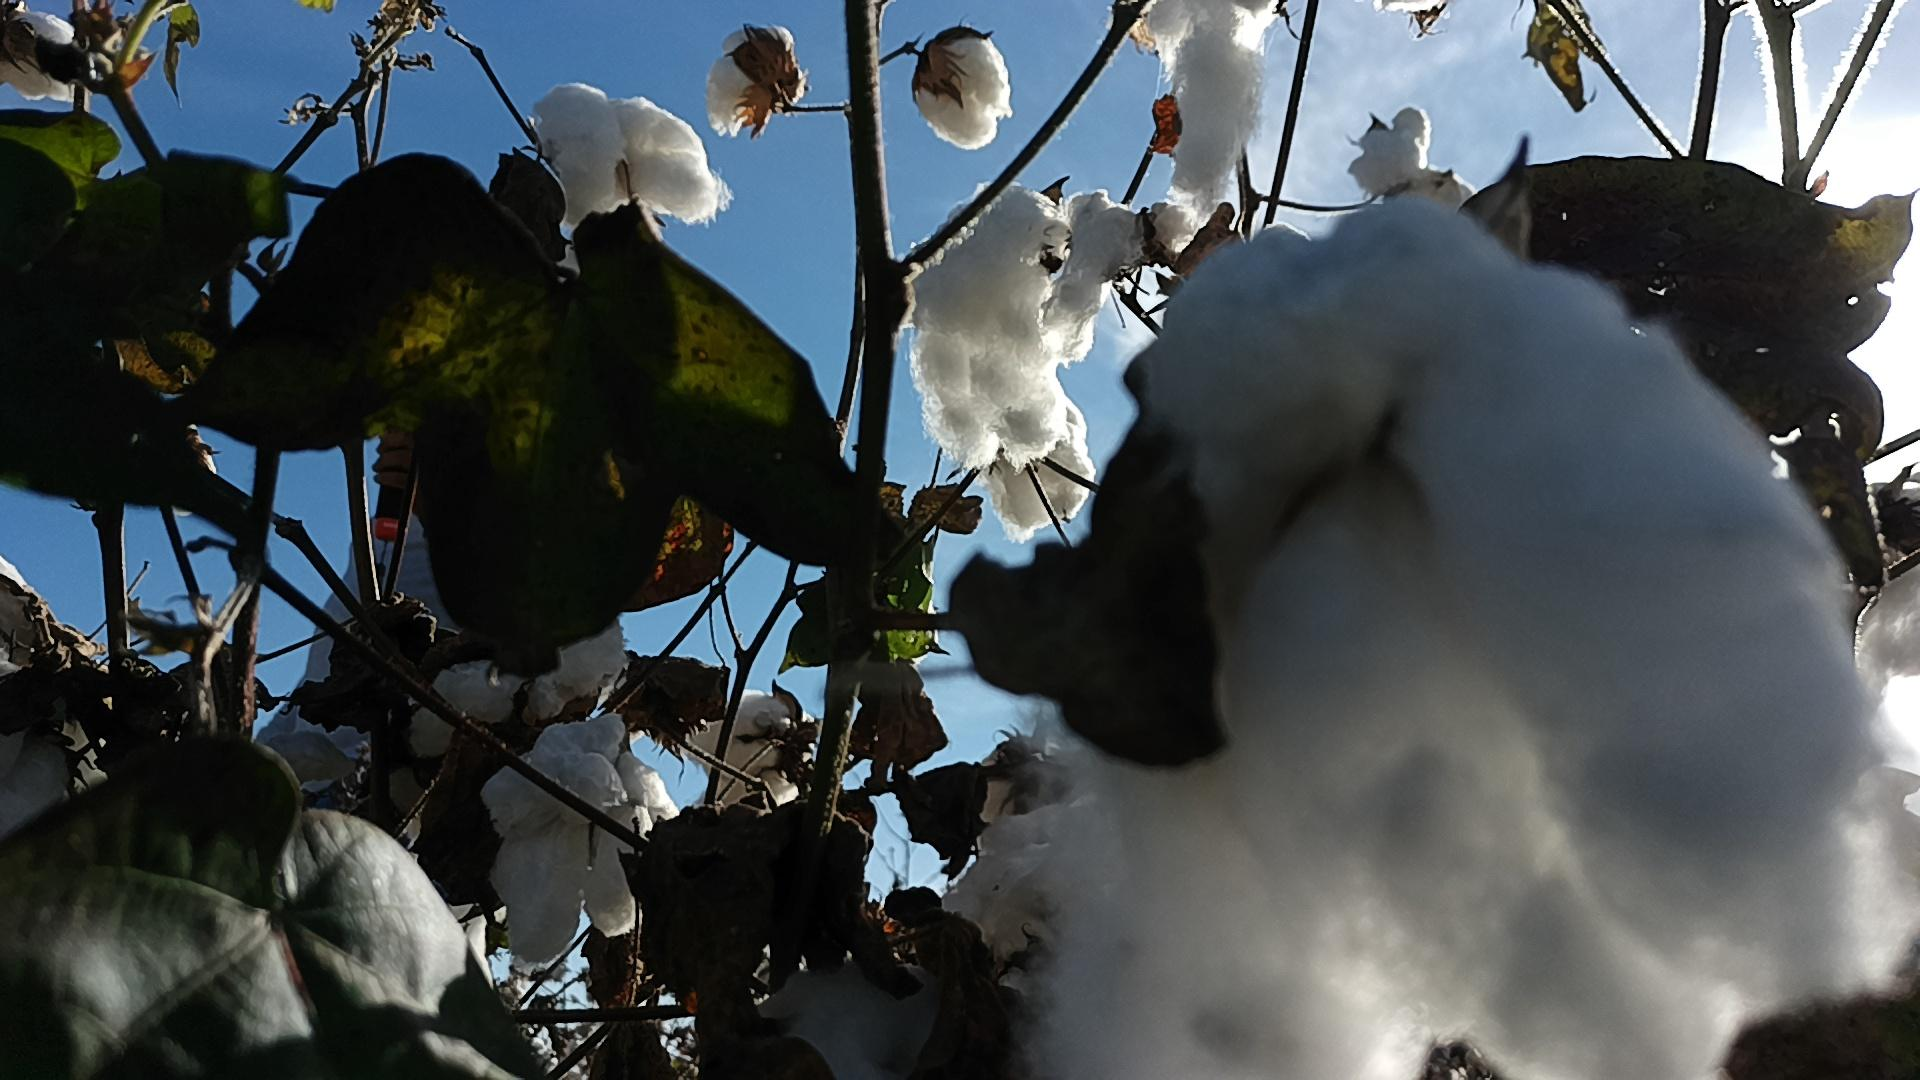cotton_ready: (1029, 206, 1920, 1080), (489, 713, 678, 969), (910, 190, 1076, 467), (1038, 190, 1203, 364), (534, 82, 733, 225), (758, 951, 968, 1080), (1138, 0, 1258, 186), (948, 836, 1058, 998), (480, 616, 633, 725), (684, 686, 808, 812), (988, 413, 1096, 537), (0, 705, 88, 855), (1353, 111, 1478, 215), (1850, 541, 1920, 717), (914, 30, 1007, 148), (709, 30, 790, 137), (0, 13, 86, 105)
